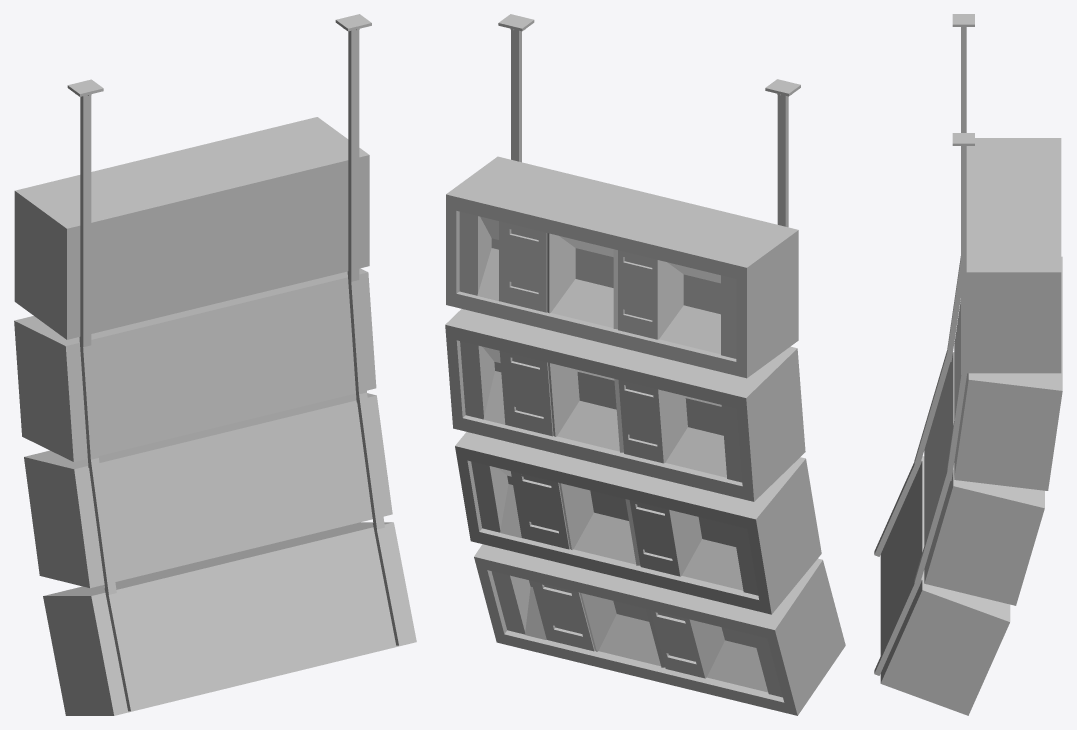
The model's file is Bocina.obj.
3 views of the same model, side by side, from view 1: azimuth 30°, elevation 25°; view 2: azimuth 150°, elevation 25°; view 3: azimuth 270°, elevation 25° (orthographic). The views are drawn at different scales.
Parts seen in each view (by area): view 1: 036502a1-e009-f2c2-9f95-51810f1d5194_Mesh_120, 85e40c53-31c0-650a-9a69-74c13fb14c3b_Mesh_80, 66931e31-dfcd-4b9f-4885-1db8539fbbff_Mesh_40, 498c9c77-1649-b934-ea57-9cb4aa71afc3_Mesh_0, 7a986f8f-3a1b-16a7-c363-88a812fa387a_Mesh_3, 3b5b30df-d070-c484-b0ae-f907cdba6c2b_Mesh_4, 61ff7c32-2bbd-baa5-4ec1-28572dab6fb6_Mesh_44, ab0583d1-92a8-f87f-27c2-51d4c9de54a5_Mesh_84, ca511640-a26d-c1a8-736c-b9dfde305305_Mesh_124, 4d23572b-c935-0106-2c71-eaf961d64769_Mesh_123, 797e5ff5-8486-fb40-a0eb-1948344e83d1_Mesh_83, 73ba7b18-ae47-90d2-4e8e-a53c31cf5286_Mesh_43 (+18 smaller); view 2: 7a986f8f-3a1b-16a7-c363-88a812fa387a_Mesh_3, 73ba7b18-ae47-90d2-4e8e-a53c31cf5286_Mesh_43, 797e5ff5-8486-fb40-a0eb-1948344e83d1_Mesh_83, 61ff7c32-2bbd-baa5-4ec1-28572dab6fb6_Mesh_44, 3b5b30df-d070-c484-b0ae-f907cdba6c2b_Mesh_4, ab0583d1-92a8-f87f-27c2-51d4c9de54a5_Mesh_84, ca511640-a26d-c1a8-736c-b9dfde305305_Mesh_124, 4d23572b-c935-0106-2c71-eaf961d64769_Mesh_123, 84275fd7-4d5e-4698-a73f-adff74c1272e_Mesh_2, 6d80adeb-cc67-97eb-3375-e477d231fc8a_Mesh_42, c31b73c3-9abc-2521-69ce-c6acc031fbc4_Mesh_82, ae377e1c-c583-8d80-89ea-9a7294796b8c_Mesh_122 (+54 smaller); view 3: 7a986f8f-3a1b-16a7-c363-88a812fa387a_Mesh_3, 9479e6a3-388c-e0e9-d602-998fb7825ee1_Mesh_121, 19b5c39f-0fdf-caad-df91-7c5b81a31435_Mesh_81, f6516065-0698-14a8-d63a-5b24e96cbb72_Mesh_1, 9ef9aec0-8463-7856-c22f-209f8ef534cb_Mesh_41, 036502a1-e009-f2c2-9f95-51810f1d5194_Mesh_120, 85e40c53-31c0-650a-9a69-74c13fb14c3b_Mesh_80, 4d23572b-c935-0106-2c71-eaf961d64769_Mesh_123, 797e5ff5-8486-fb40-a0eb-1948344e83d1_Mesh_83, 73ba7b18-ae47-90d2-4e8e-a53c31cf5286_Mesh_43, 17e17be0-2323-ee7d-0dbb-b1c86ff133fb_Mesh_176, 64bb2375-819c-661c-387d-23bf84ad7e1b_Mesh_177 (+11 smaller).
Part boxes in pixels (x1,y1,x2,y2): 036502a1-e009-f2c2-9f95-51810f1d5194_Mesh_120: (104, 542, 393, 698); 85e40c53-31c0-650a-9a69-74c13fb14c3b_Mesh_80: (87, 415, 370, 570); 66931e31-dfcd-4b9f-4885-1db8539fbbff_Mesh_40: (77, 292, 354, 444); 498c9c77-1649-b934-ea57-9cb4aa71afc3_Mesh_0: (77, 174, 348, 323); 7a986f8f-3a1b-16a7-c363-88a812fa387a_Mesh_3: (26, 119, 348, 239); 3b5b30df-d070-c484-b0ae-f907cdba6c2b_Mesh_4: (14, 188, 77, 339); 61ff7c32-2bbd-baa5-4ec1-28572dab6fb6_Mesh_44: (14, 318, 84, 461); ab0583d1-92a8-f87f-27c2-51d4c9de54a5_Mesh_84: (24, 454, 100, 588); ca511640-a26d-c1a8-736c-b9dfde305305_Mesh_124: (43, 593, 124, 715); 4d23572b-c935-0106-2c71-eaf961d64769_Mesh_123: (54, 525, 376, 608); 797e5ff5-8486-fb40-a0eb-1948344e83d1_Mesh_83: (35, 394, 358, 481); 73ba7b18-ae47-90d2-4e8e-a53c31cf5286_Mesh_43: (25, 271, 348, 357); 7a986f8f-3a1b-16a7-c363-88a812fa387a_Mesh_3: (456, 159, 787, 278); 73ba7b18-ae47-90d2-4e8e-a53c31cf5286_Mesh_43: (455, 311, 772, 408); 797e5ff5-8486-fb40-a0eb-1948344e83d1_Mesh_83: (465, 434, 770, 528); 61ff7c32-2bbd-baa5-4ec1-28572dab6fb6_Mesh_44: (735, 346, 805, 501); 3b5b30df-d070-c484-b0ae-f907cdba6c2b_Mesh_4: (736, 227, 798, 378); ab0583d1-92a8-f87f-27c2-51d4c9de54a5_Mesh_84: (745, 457, 821, 614); ca511640-a26d-c1a8-736c-b9dfde305305_Mesh_124: (764, 558, 845, 715); 4d23572b-c935-0106-2c71-eaf961d64769_Mesh_123: (484, 547, 778, 638); 84275fd7-4d5e-4698-a73f-adff74c1272e_Mesh_2: (456, 291, 736, 375); 6d80adeb-cc67-97eb-3375-e477d231fc8a_Mesh_42: (462, 415, 743, 499); c31b73c3-9abc-2521-69ce-c6acc031fbc4_Mesh_82: (479, 528, 760, 611); ae377e1c-c583-8d80-89ea-9a7294796b8c_Mesh_122: (504, 630, 786, 713); 7a986f8f-3a1b-16a7-c363-88a812fa387a_Mesh_3: (966, 142, 1061, 267); 9479e6a3-388c-e0e9-d602-998fb7825ee1_Mesh_121: (880, 585, 1010, 715); 19b5c39f-0fdf-caad-df91-7c5b81a31435_Mesh_81: (924, 481, 1044, 605); f6516065-0698-14a8-d63a-5b24e96cbb72_Mesh_1: (966, 267, 1061, 373); 9ef9aec0-8463-7856-c22f-209f8ef534cb_Mesh_41: (954, 375, 1062, 490); 036502a1-e009-f2c2-9f95-51810f1d5194_Mesh_120: (885, 473, 916, 666); 85e40c53-31c0-650a-9a69-74c13fb14c3b_Mesh_80: (928, 370, 949, 566); 4d23572b-c935-0106-2c71-eaf961d64769_Mesh_123: (917, 460, 1010, 617); 797e5ff5-8486-fb40-a0eb-1948344e83d1_Mesh_83: (949, 356, 1044, 503); 73ba7b18-ae47-90d2-4e8e-a53c31cf5286_Mesh_43: (967, 261, 1062, 386); 17e17be0-2323-ee7d-0dbb-b1c86ff133fb_Mesh_176: (914, 350, 952, 465); 64bb2375-819c-661c-387d-23bf84ad7e1b_Mesh_177: (914, 469, 950, 583).
Size of the model in its own units: 3.56 by 7.05 by 2.11.
